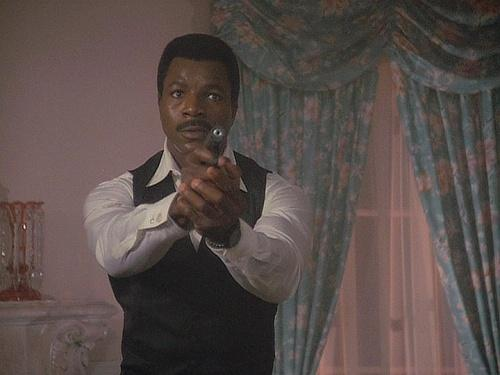Gun: (204, 124, 226, 158)
